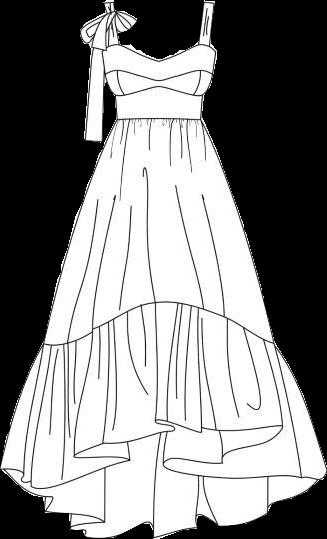Bodice: (102, 0, 216, 120)
Hemline: (2, 416, 325, 488)
Neckline: (109, 0, 208, 63), (115, 85, 203, 103)
Skirt: (1, 121, 325, 538)
Waistline: (42, 297, 276, 347), (114, 115, 203, 124)
